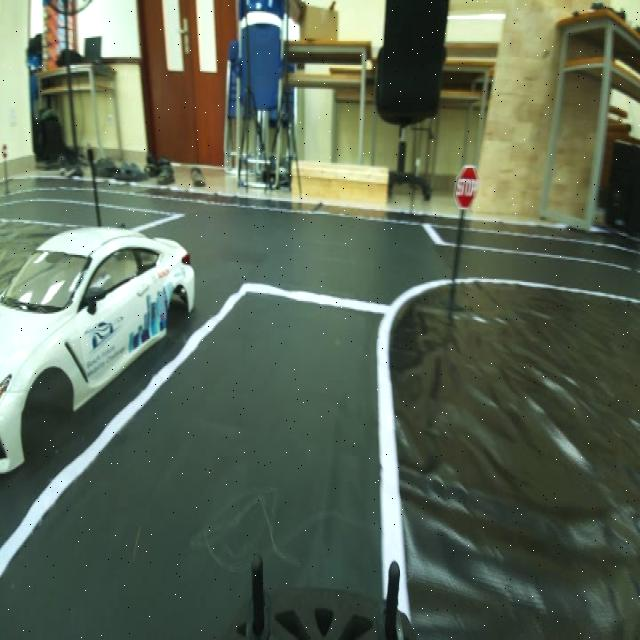car: (0, 183, 197, 424)
stop: (444, 156, 486, 215)
